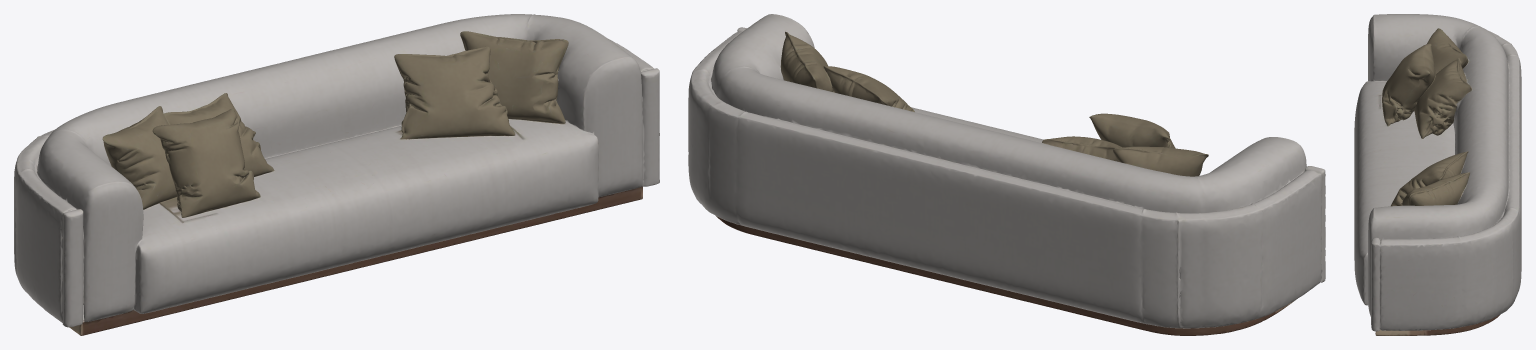
The model's file is sofa_3seater.glb.
The picture shows the model from 3 angles, left to right: view 1: azimuth 30°, elevation 25°; view 2: azimuth 150°, elevation 25°; view 3: azimuth 270°, elevation 25°; orthographic projection. The views are drawn at different scales.
Parts seen in each view (by area): view 1: world; view 2: world; view 3: world.
Part boxes in pixels (<box>): world: <box>14,14,659,335</box>; world: <box>688,14,1325,335</box>; world: <box>1354,14,1521,335</box>.
Bounding box in the file's own units: 0.9948 × 0.2534 × 0.3116.
1 material, 1 textured.
